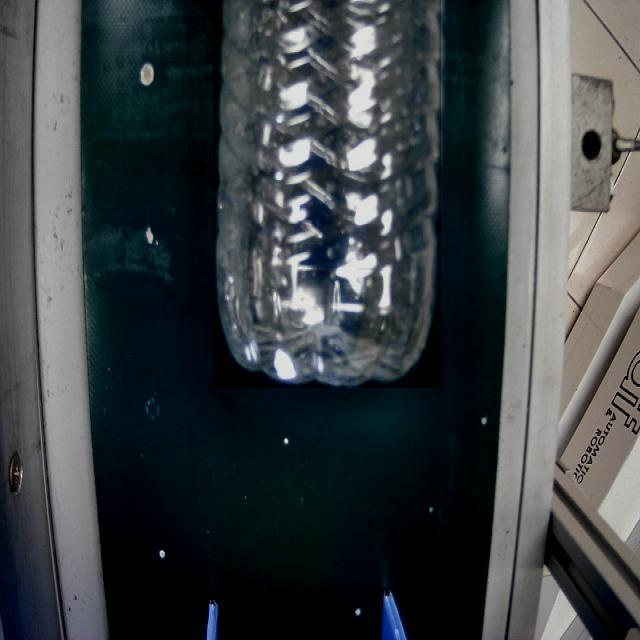Pet_Bottle: (214, 0, 442, 388)
